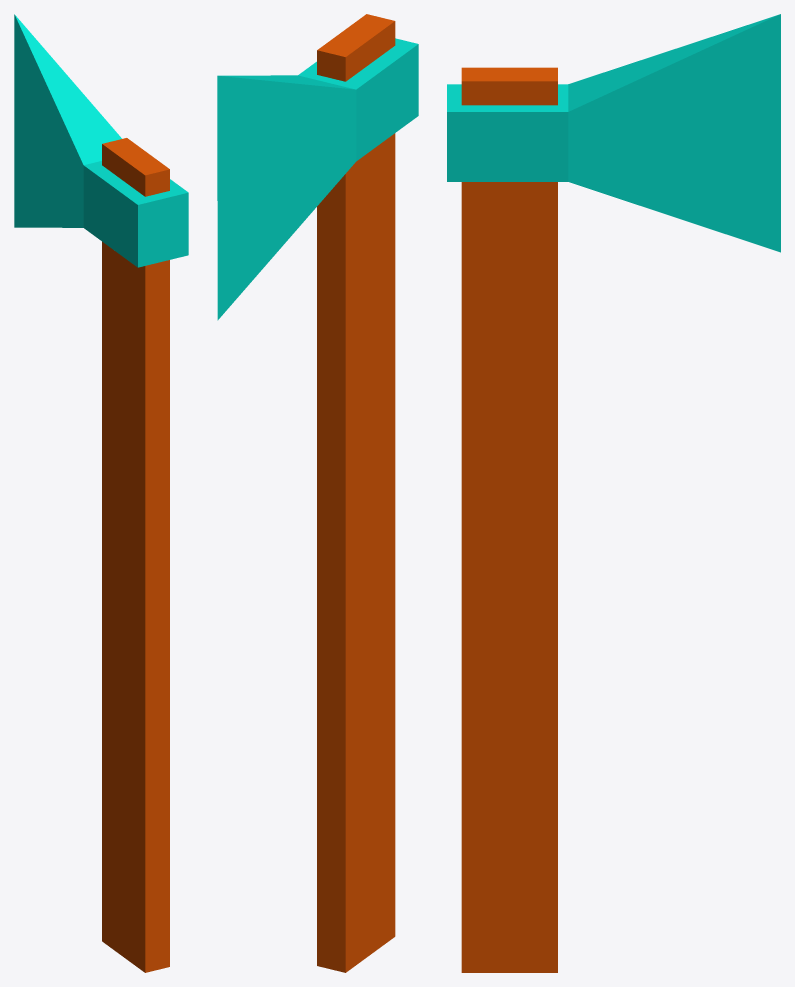
File: axe.fbx
The picture shows the model from 3 angles, left to right: view 1: azimuth 30°, elevation 25°; view 2: azimuth 150°, elevation 25°; view 3: azimuth 270°, elevation 25°; orthographic projection. The views are drawn at different scales.
Visible parts, largest first — view 1: Cube, Cube.001; view 2: Cube, Cube.001; view 3: Cube, Cube.001.
Part boxes in pixels (box(x1,y1,x2,y2)): Cube: box(102, 138, 169, 972); Cube.001: box(14, 14, 188, 267); Cube: box(317, 14, 395, 972); Cube.001: box(217, 38, 418, 320); Cube: box(461, 67, 557, 972); Cube.001: box(447, 14, 780, 252).
Size of the model in its own units: 136 by 2179 by 693.
